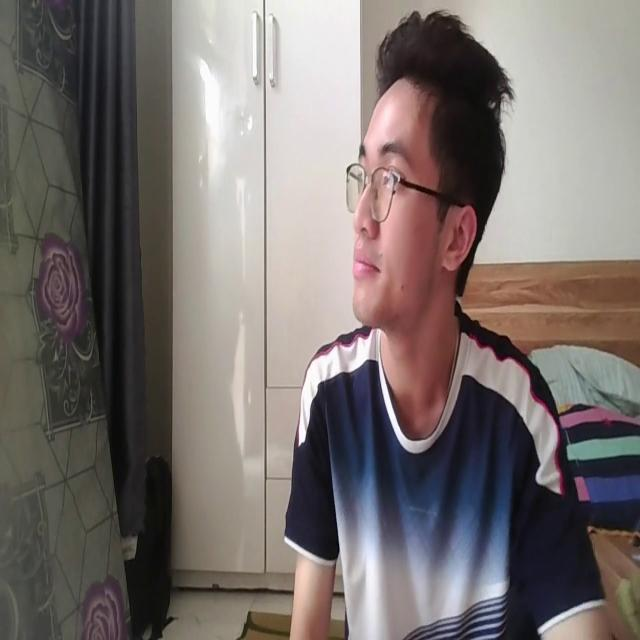student: (280, 6, 613, 640)
